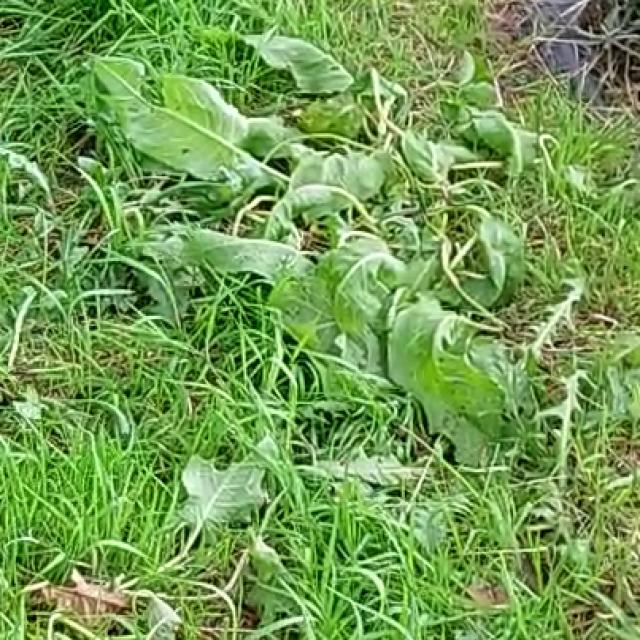organic waste: (118, 32, 608, 430)
